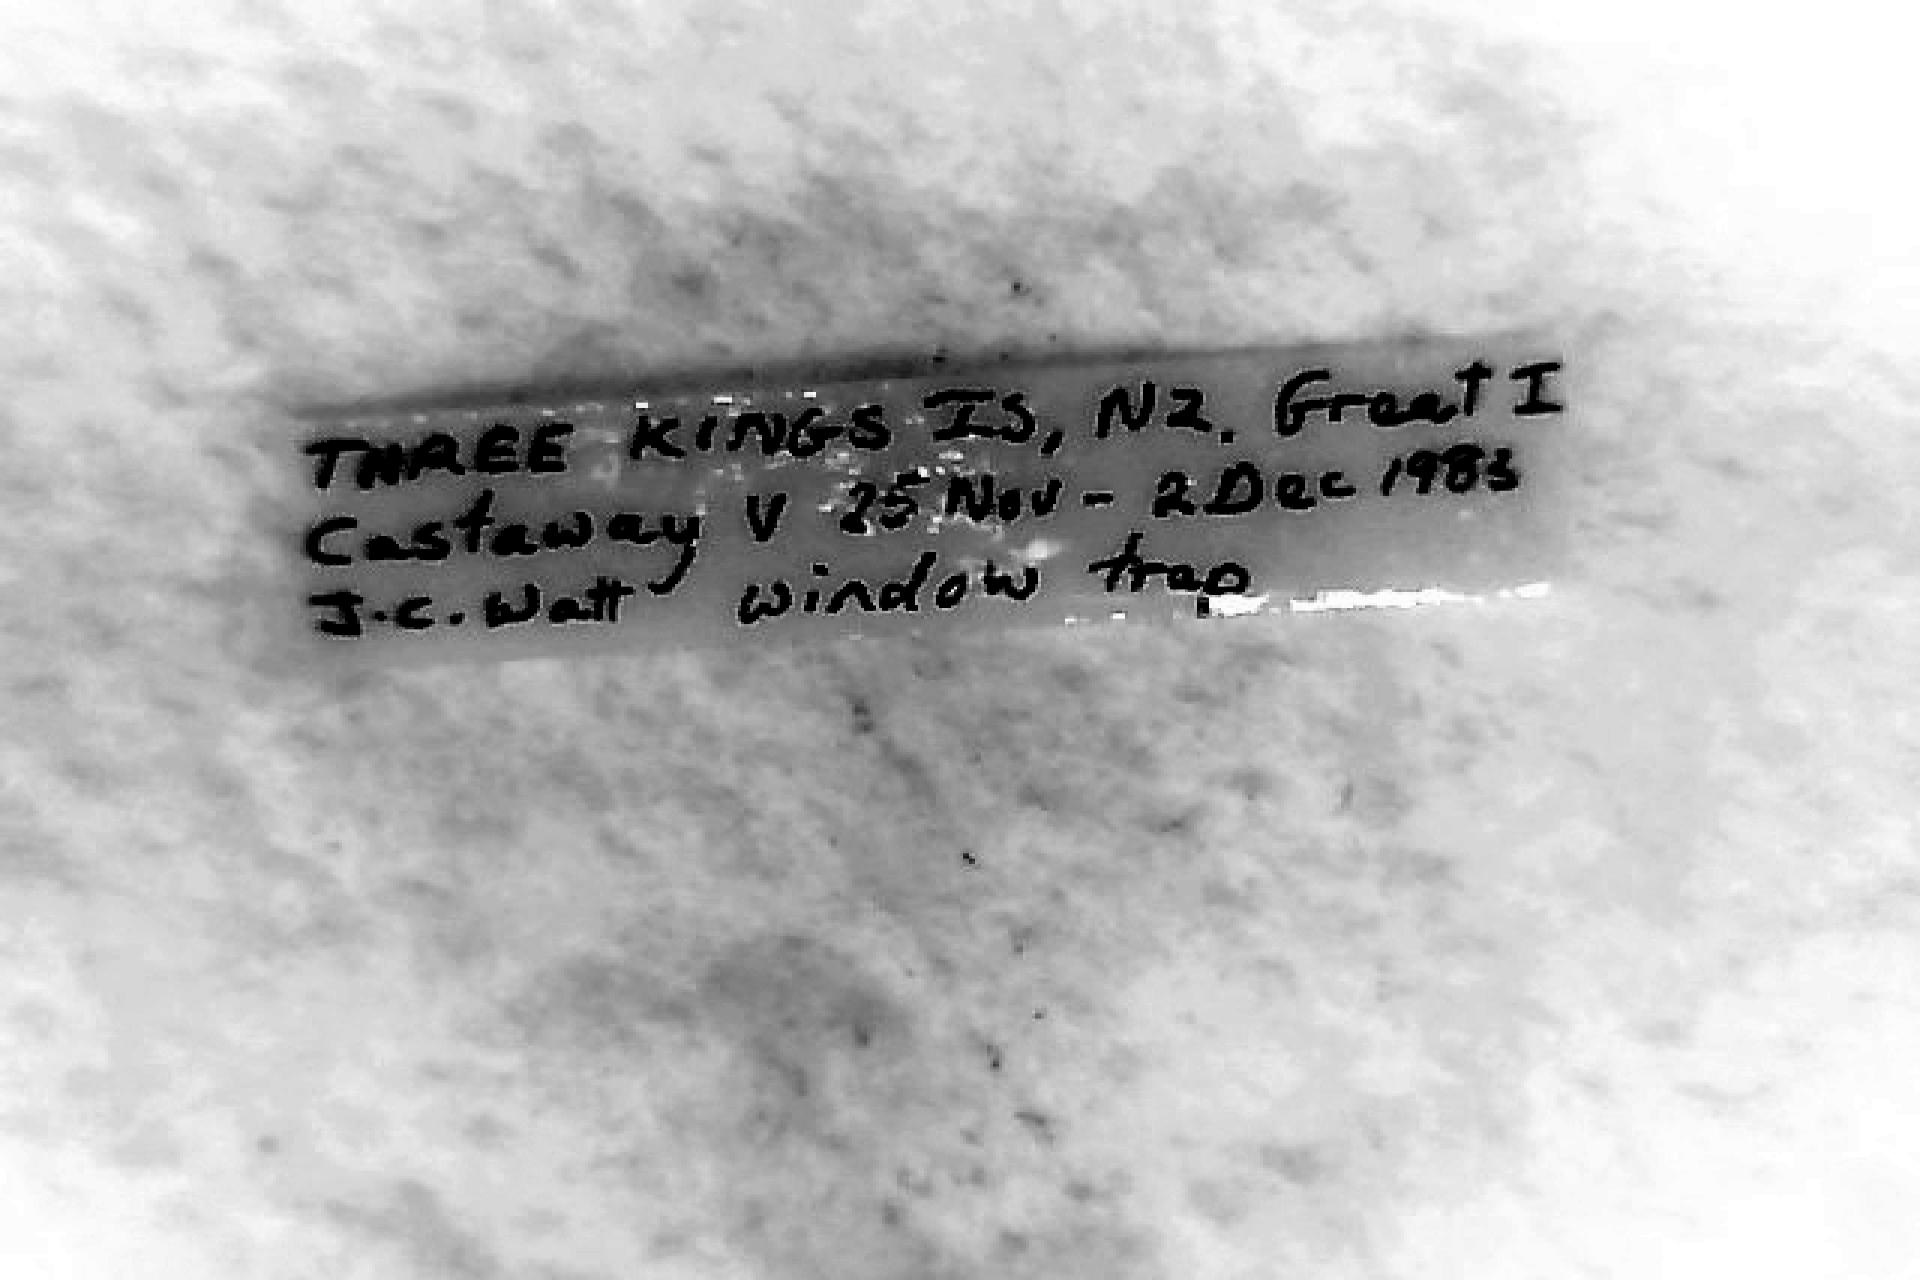hand_label: (292, 337, 1568, 655)
